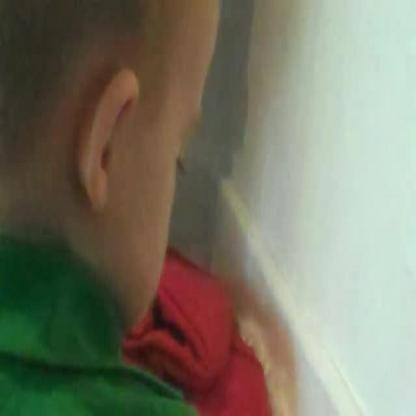other: (159, 252, 267, 414)
